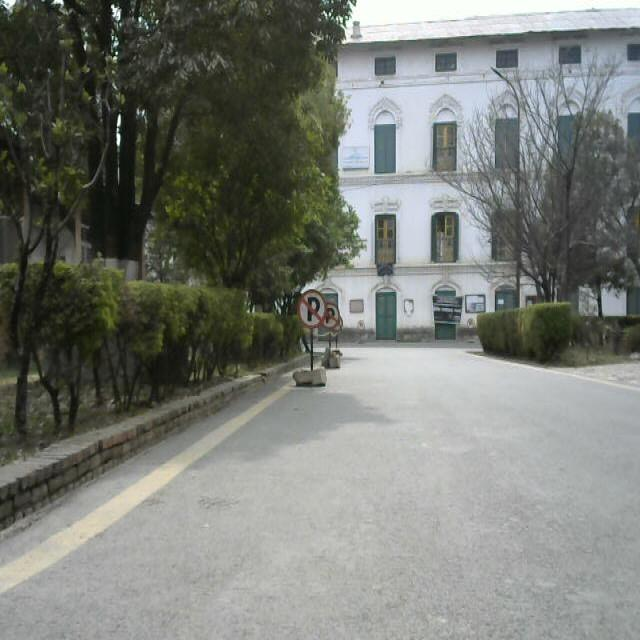Buildings: (346, 49, 530, 326)
NoParking: (300, 289, 340, 401)
Road: (3, 364, 355, 640), (342, 340, 640, 640)
trees: (9, 9, 308, 394), (452, 91, 640, 319)
